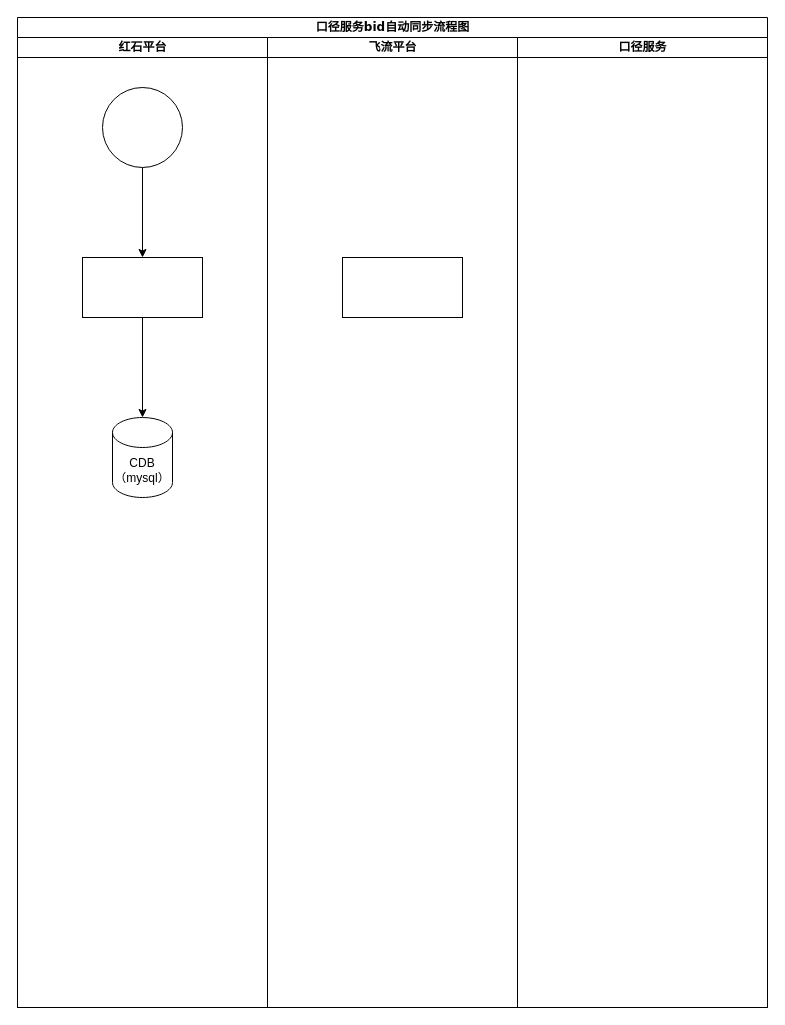
Some shapes in this 785 by 1025 pixel diagram are drawn without their labels. The shapes that lost their labels are listed below. From the top down, each one's centre as x and y in pixels, then its label:
At point (142, 127): "开始".
At point (142, 287): "bid数据CRUD".
At point (402, 287): "mysql数据同步任务".
